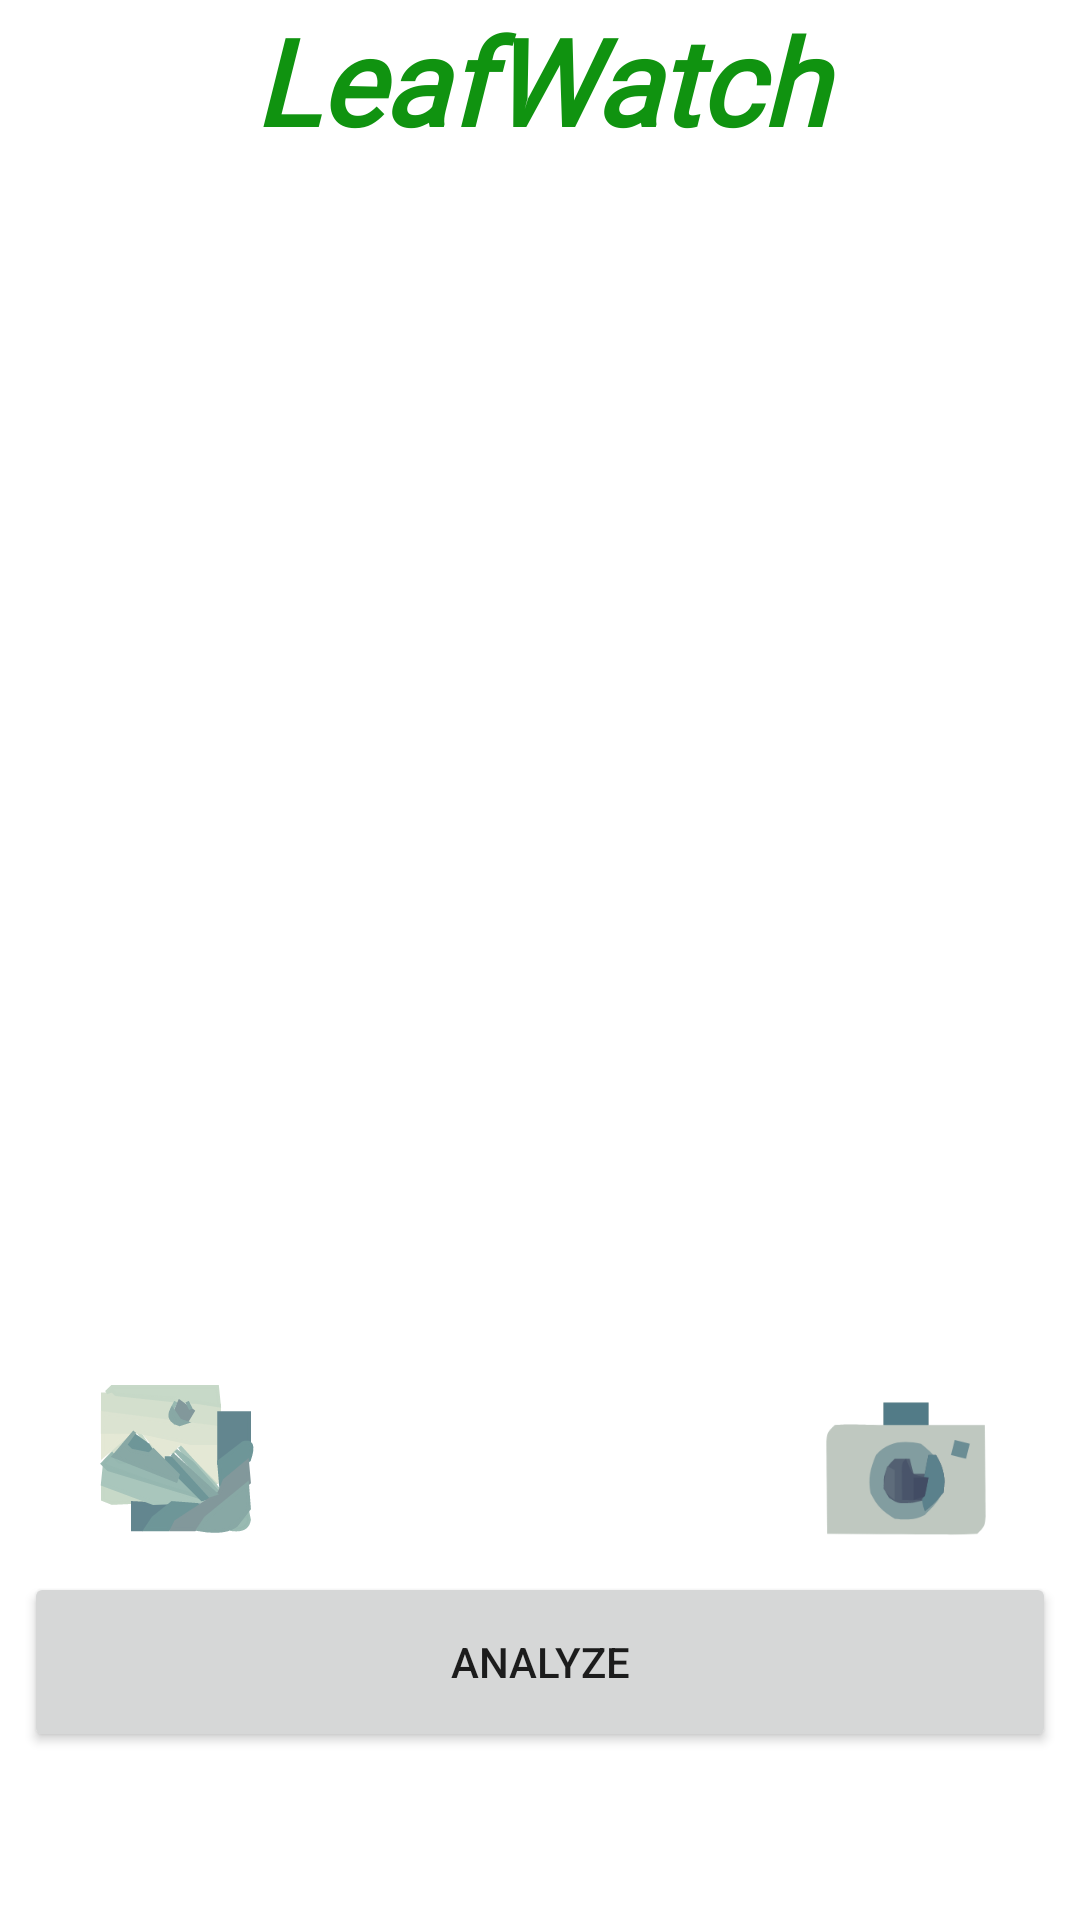

Where icons sit on this 1080*1920 app screen, as [left=x1, top=y1, right=x2, bottom=y2]:
photo camera: [left=826, top=1402, right=986, bottom=1535]
photo library: [left=100, top=1385, right=254, bottom=1533]
